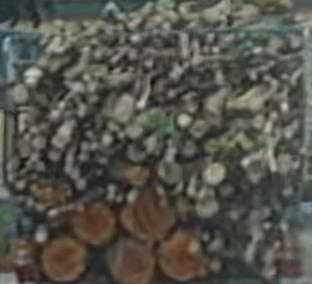large: (124, 194, 174, 239), (107, 237, 155, 283), (158, 231, 201, 281), (44, 237, 84, 282), (75, 204, 115, 246)
medium: (159, 161, 181, 184), (116, 94, 133, 123), (205, 164, 226, 185), (127, 167, 149, 184), (198, 201, 218, 217), (14, 85, 27, 103), (52, 135, 68, 149), (128, 123, 142, 138), (191, 122, 205, 137), (183, 141, 197, 156), (33, 136, 47, 150), (144, 137, 156, 153), (262, 267, 276, 280), (36, 226, 47, 242), (179, 115, 191, 129), (57, 128, 71, 139), (251, 99, 263, 111)
small: (212, 261, 222, 272), (71, 169, 80, 179), (169, 73, 178, 82), (15, 182, 25, 190), (104, 135, 112, 144), (77, 181, 85, 190), (82, 143, 90, 152), (93, 51, 101, 59), (217, 77, 224, 86), (90, 83, 97, 92), (280, 74, 290, 80), (49, 64, 56, 72), (79, 154, 87, 161), (282, 104, 289, 112), (108, 184, 115, 192), (48, 210, 55, 218), (254, 47, 262, 54), (117, 13, 125, 20), (52, 110, 59, 118), (53, 38, 61, 45), (55, 48, 64, 54), (131, 36, 138, 43), (189, 179, 196, 186), (39, 58, 45, 66), (136, 102, 144, 108), (30, 127, 38, 133), (242, 160, 248, 168), (169, 90, 175, 98), (70, 93, 76, 101), (262, 65, 270, 71), (79, 105, 86, 111), (78, 110, 85, 116), (96, 169, 102, 176), (66, 160, 72, 167), (65, 167, 72, 173), (271, 80, 278, 86), (272, 112, 278, 119), (265, 223, 272, 229), (188, 188, 194, 195), (108, 194, 115, 200), (117, 195, 123, 202), (32, 185, 38, 192), (37, 206, 44, 212), (145, 62, 152, 68), (156, 16, 162, 23), (164, 22, 170, 29), (206, 39, 214, 44), (233, 214, 238, 222), (144, 24, 152, 29), (286, 130, 291, 138), (120, 133, 126, 139), (87, 131, 93, 137), (92, 39, 98, 45), (263, 76, 270, 81), (265, 126, 272, 131), (203, 233, 208, 240), (28, 199, 33, 206), (32, 155, 39, 160), (113, 69, 120, 74), (68, 155, 73, 161), (129, 67, 135, 72), (212, 48, 218, 53), (204, 47, 210, 52), (208, 33, 214, 38), (251, 74, 256, 80), (92, 144, 97, 150), (25, 134, 30, 140), (130, 54, 135, 60), (269, 61, 275, 66), (136, 19, 142, 24), (130, 23, 135, 29), (112, 58, 117, 64), (214, 63, 220, 68), (248, 42, 253, 48), (244, 52, 250, 57), (60, 103, 65, 108), (84, 75, 89, 80), (184, 64, 190, 68), (276, 242, 280, 248), (33, 175, 37, 180)
